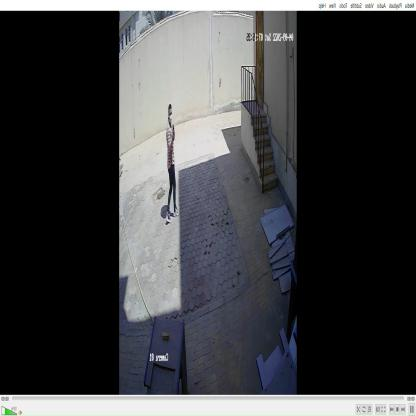handgun: (169, 119, 177, 142)
